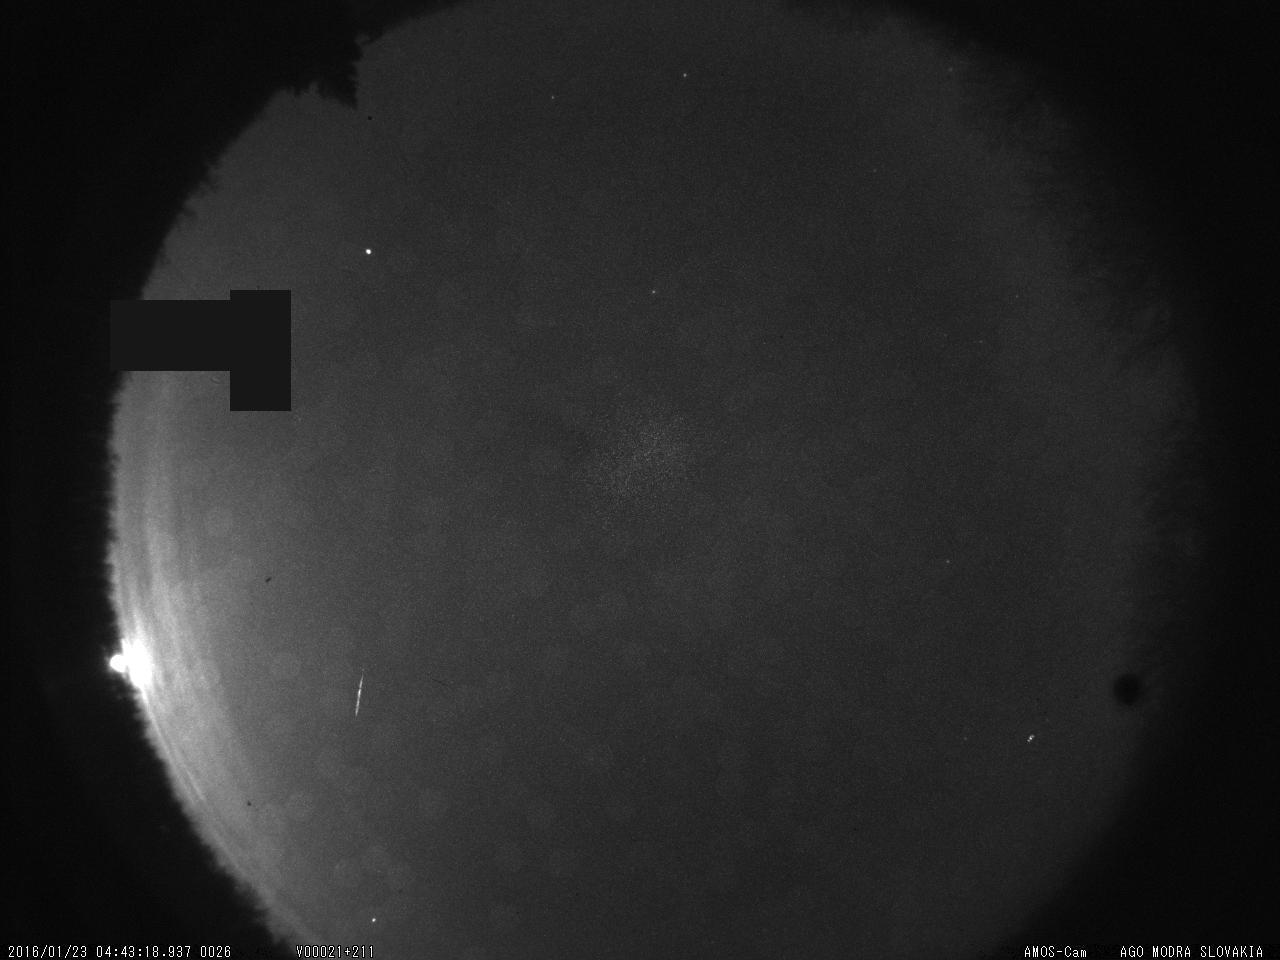meteor: (347, 653, 371, 726)
